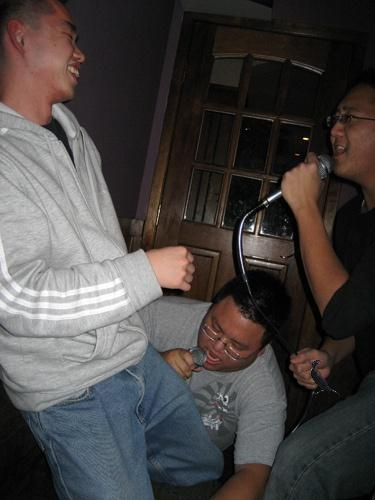tampered: (312, 361, 342, 396)
